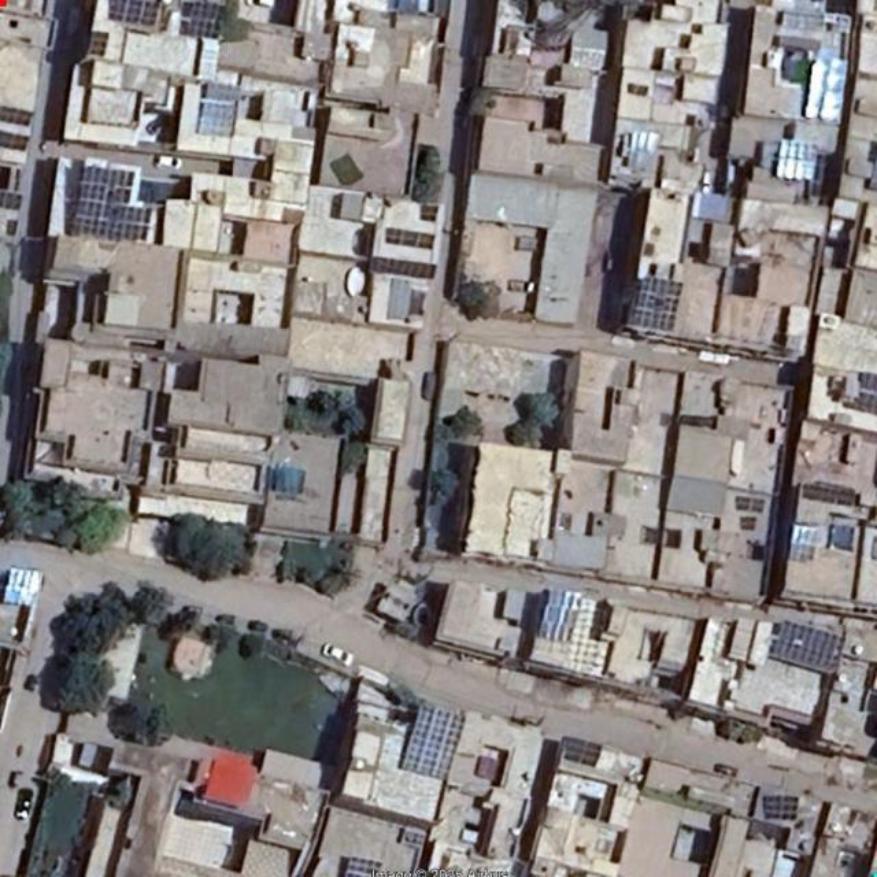Solarpanel: (72, 165, 157, 238), (401, 705, 464, 776), (775, 621, 843, 672), (628, 276, 684, 331), (200, 83, 239, 138), (775, 138, 818, 181), (187, 2, 228, 39), (373, 259, 435, 279), (108, 0, 159, 24), (564, 737, 603, 766), (344, 854, 384, 876), (386, 230, 432, 249), (765, 796, 797, 820), (0, 130, 30, 152), (0, 108, 30, 125), (0, 192, 24, 212)
